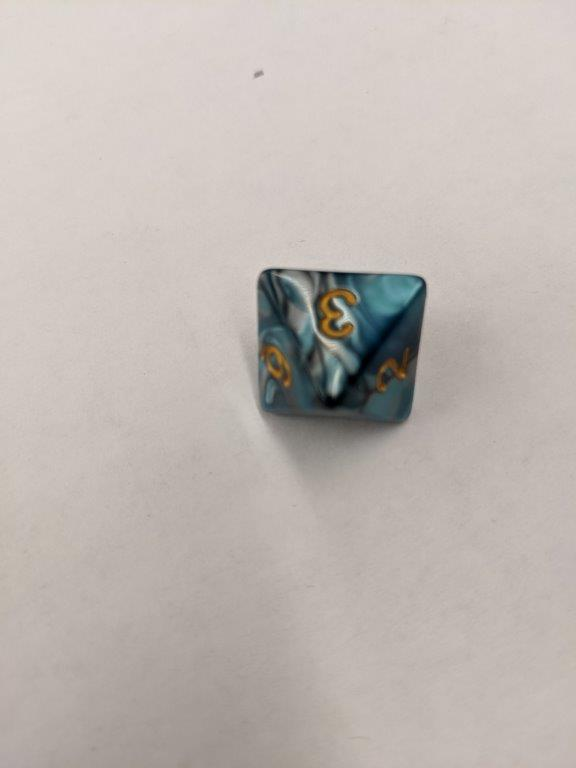d8-3: (252, 265, 427, 427)
